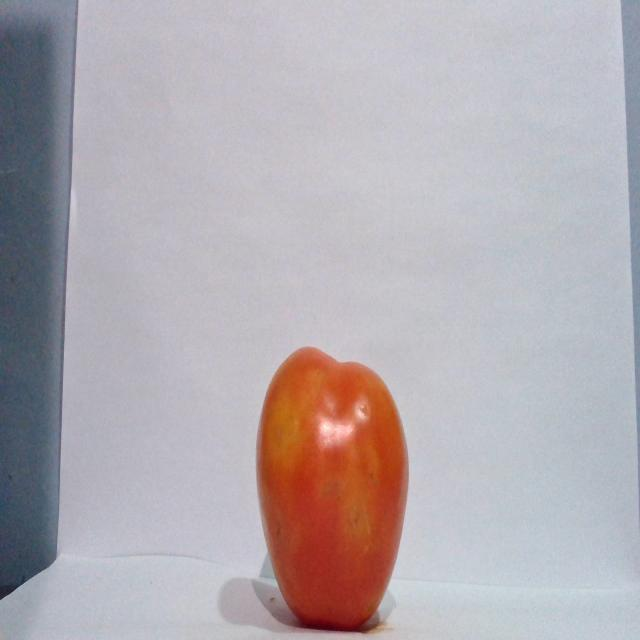Red: (254, 344, 410, 630)
